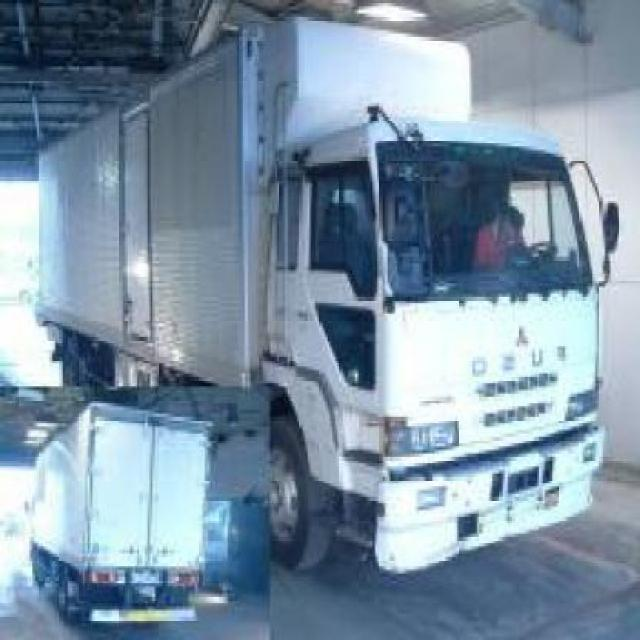truck: (41, 10, 626, 578), (28, 397, 211, 631)
